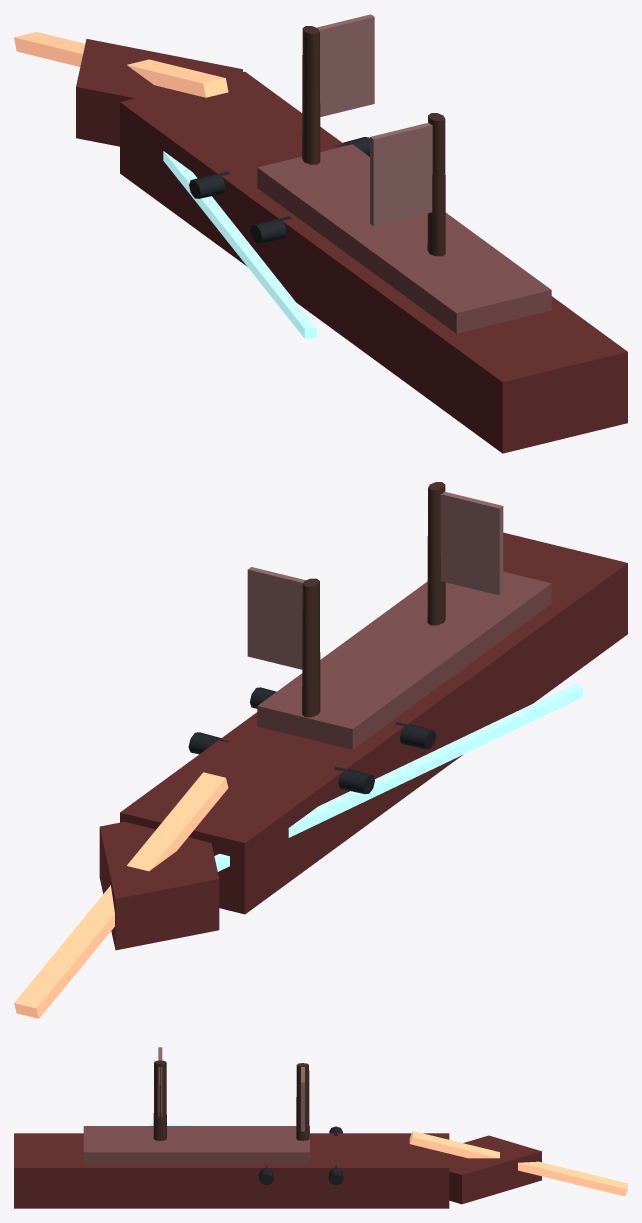
File: ship_main_53.glb
The picture shows the model from 3 angles, top to bottom: view 1: azimuth 30°, elevation 25°; view 2: azimuth 150°, elevation 25°; view 3: azimuth 270°, elevation 25°; orthographic projection. The views are drawn at different scales.
Parts seen in each view (by area): view 1: Hull, Deck_0, Bow, Sail_1, Sail_0, ProwIdentity, AsymmetricPortBlade, Mast_0, Mast_1, Gun_P_1, Gun_P_0; view 2: Hull, Deck_0, Bow, ProwIdentity, Sail_1, AsymmetricPortBlade, Sail_0, Mast_0, Mast_1, Gun_P_1, Gun_P_0; view 3: Hull, Deck_0, Bow, ProwIdentity, Mast_1, Mast_0, Sail_1, Sail_0.
Boxes of the visible parts, x1=… form: Hull: x1=120, y1=71, x2=627, y2=453; Deck_0: x1=257, y1=144, x2=551, y2=333; Bow: x1=76, y1=39, x2=242, y2=146; Sail_1: x1=370, y1=122, x2=432, y2=226; Sail_0: x1=317, y1=14, x2=374, y2=116; ProwIdentity: x1=14, y1=32, x2=228, y2=97; AsymmetricPortBlade: x1=163, y1=151, x2=316, y2=338; Mast_0: x1=302, y1=26, x2=320, y2=164; Mast_1: x1=427, y1=113, x2=445, y2=256; Gun_P_1: x1=250, y1=216, x2=291, y2=243; Gun_P_0: x1=189, y1=171, x2=230, y2=198; Hull: x1=120, y1=532, x2=627, y2=914; Deck_0: x1=257, y1=571, x2=551, y2=749; Bow: x1=99, y1=821, x2=219, y2=950; ProwIdentity: x1=14, y1=772, x2=228, y2=1018; Sail_1: x1=440, y1=491, x2=503, y2=595; AsymmetricPortBlade: x1=214, y1=683, x2=582, y2=871; Sail_0: x1=247, y1=567, x2=305, y2=669; Mast_0: x1=302, y1=578, x2=320, y2=717; Mast_1: x1=427, y1=482, x2=445, y2=625; Gun_P_1: x1=395, y1=722, x2=436, y2=749; Gun_P_0: x1=334, y1=766, x2=374, y2=794; Hull: x1=14, y1=1133, x2=449, y2=1208; Deck_0: x1=83, y1=1126, x2=309, y2=1163; Bow: x1=449, y1=1135, x2=541, y2=1204; ProwIdentity: x1=409, y1=1131, x2=627, y2=1196; Mast_1: x1=153, y1=1060, x2=166, y2=1140; Mast_0: x1=296, y1=1063, x2=309, y2=1140; Sail_1: x1=158, y1=1047, x2=162, y2=1116; Sail_0: x1=301, y1=1067, x2=304, y2=1131.
Size of the model in its own units: 2.3 by 2.24 by 9.49.
